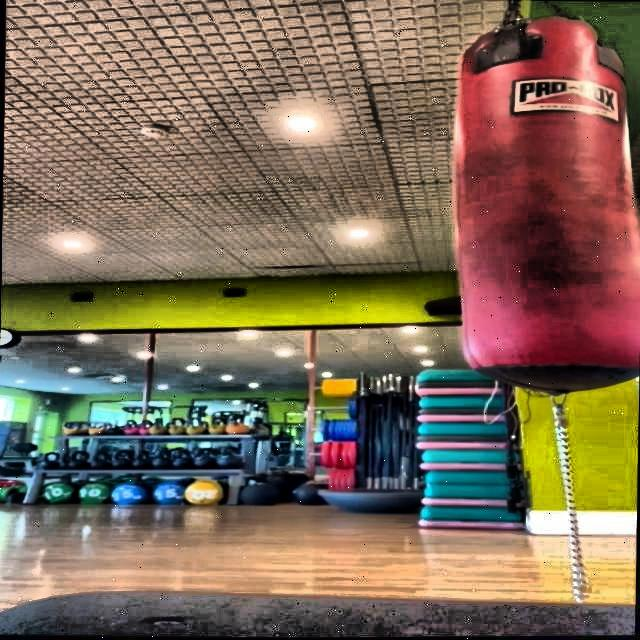boxing-bag: (451, 0, 640, 396)
